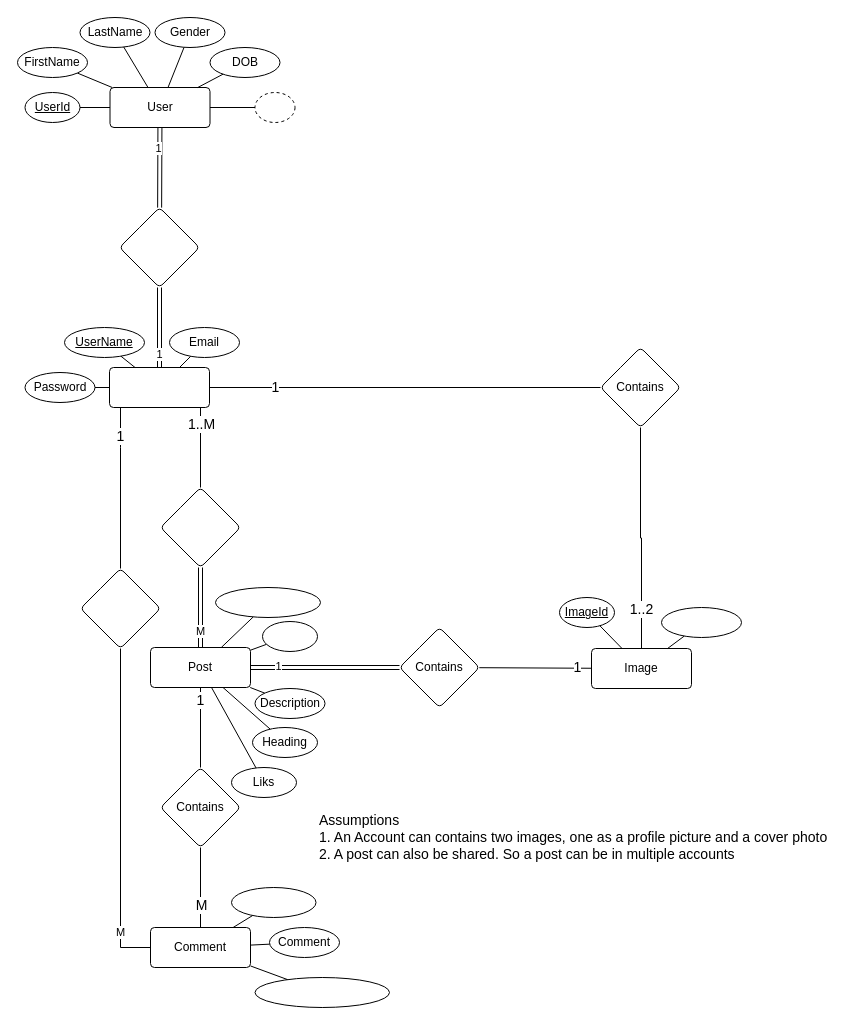
Image size: 855x1025. Some labels were removed from this diagram. Here are the shapes that lost their labels. From the top down, the centre of each, then its label:
At (x=274, y=107): "Age".
At (x=159, y=247): "Has".
At (x=159, y=387): "Account".
At (x=200, y=527): "Creates".
At (x=120, y=608): "Comments".
At (x=267, y=602): "PostedDateTime".
At (x=701, y=622): "ImageName".
At (x=290, y=636): "PostId".
At (x=273, y=902): "CommentId".
At (x=322, y=992): "CommentedDateTime".
